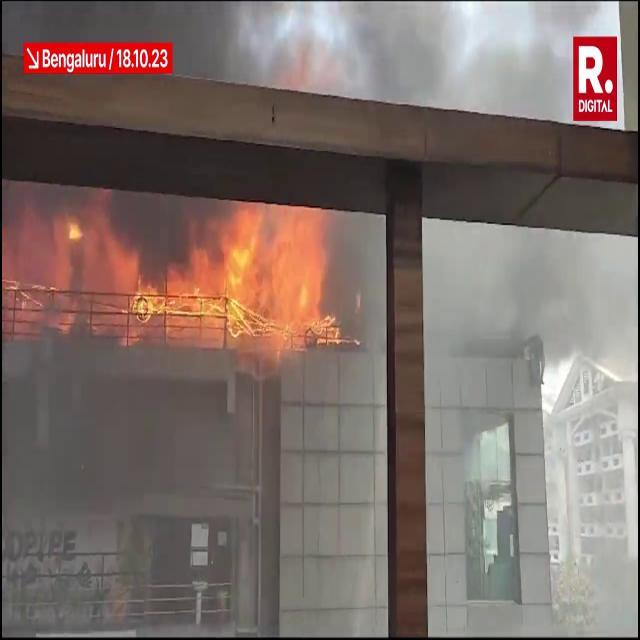Fire: (4, 196, 341, 342)
Smoke: (160, 0, 532, 118)
